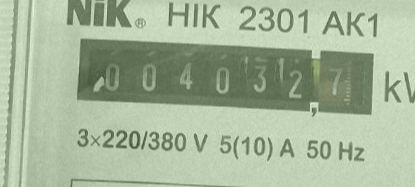0: (140, 59, 161, 93), (104, 58, 124, 92), (214, 62, 234, 95)
2: (288, 65, 307, 100)
3: (252, 61, 271, 93)
4: (177, 57, 198, 94)
7: (329, 63, 347, 97)
screen: (68, 29, 385, 126)
